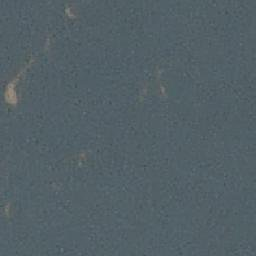debris: (6, 75, 19, 106), (61, 2, 76, 20)
